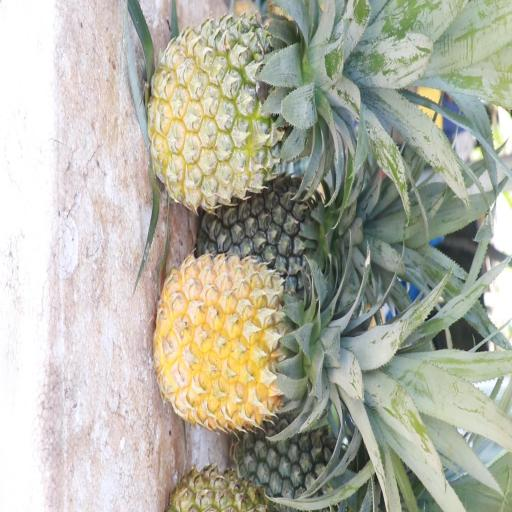------------------------------: (153, 15, 324, 205)
Pineapple - v8 v1: (158, 248, 333, 427)
